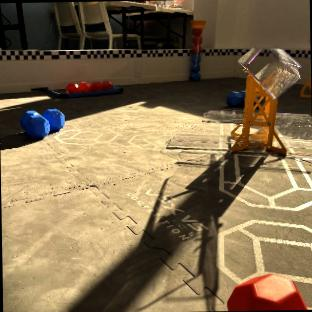V5_BLUE: (20, 109, 65, 138), (227, 90, 243, 105)
V5_RED: (229, 273, 305, 310), (190, 21, 204, 79), (66, 80, 113, 93)
